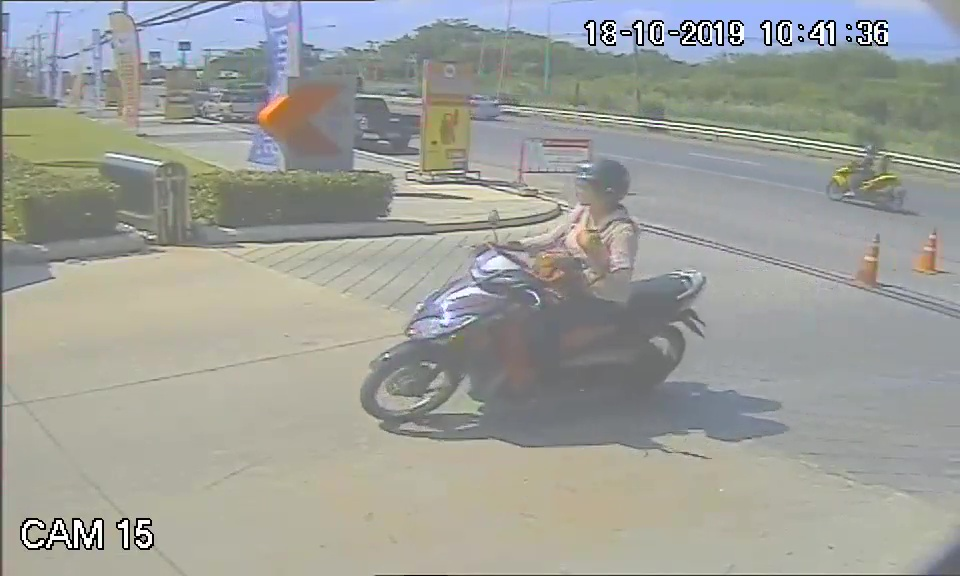motorcycle: (359, 244, 711, 426)
